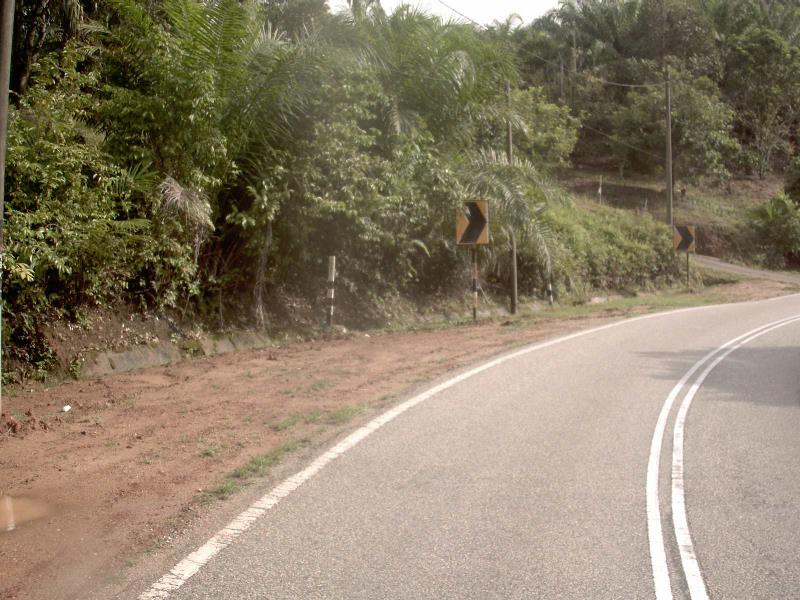traffic_sign: (444, 190, 499, 256)
